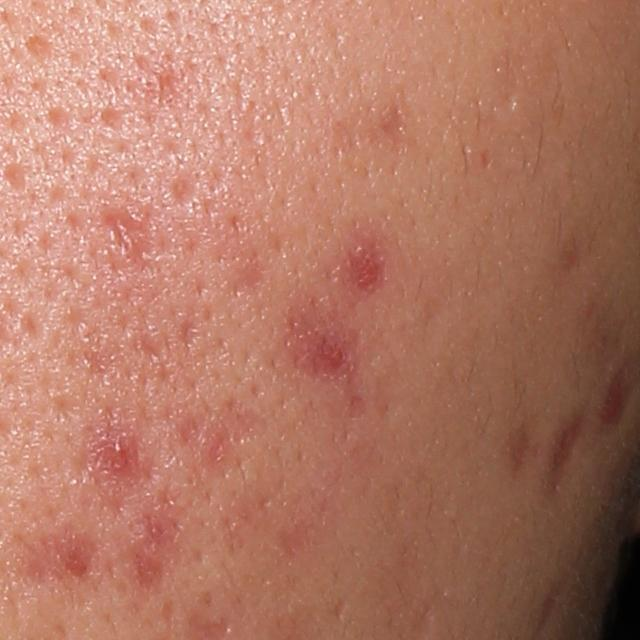atrophic_scar: (9, 532, 100, 591), (104, 209, 159, 279), (547, 409, 584, 496), (137, 58, 184, 108), (379, 109, 428, 153), (22, 31, 57, 56), (168, 175, 194, 206), (1, 163, 26, 190)
papule: (104, 438, 139, 474)
